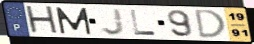9: (166, 9, 195, 38)
D: (194, 8, 227, 39)
H: (23, 5, 61, 36)
J: (100, 8, 127, 37)
L: (129, 9, 159, 37)
M: (54, 6, 94, 36)
